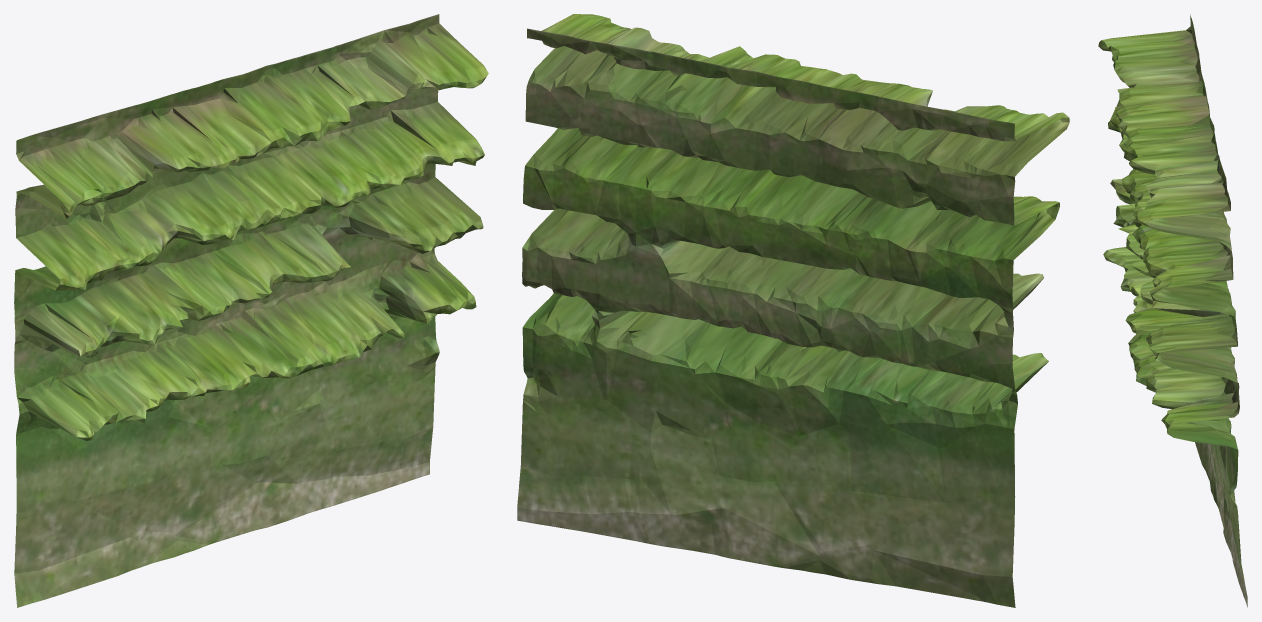
File: map_10_40.obj
3 views of the same model, side by side, from view 1: azimuth 30°, elevation 25°; view 2: azimuth 150°, elevation 25°; view 3: azimuth 270°, elevation 25° (orthographic). The views are drawn at different scales.
Visible parts, largest first — view 1: grp1; view 2: grp1; view 3: grp1.
Boxes of the visible parts, left/top/right/bottom form: grp1: left=14, top=14, right=488, bottom=607; grp1: left=517, top=14, right=1069, bottom=607; grp1: left=1098, top=14, right=1247, bottom=607.
Size of the model in its own units: 10 by 10 by 3.34.
1 material, 1 textured.
